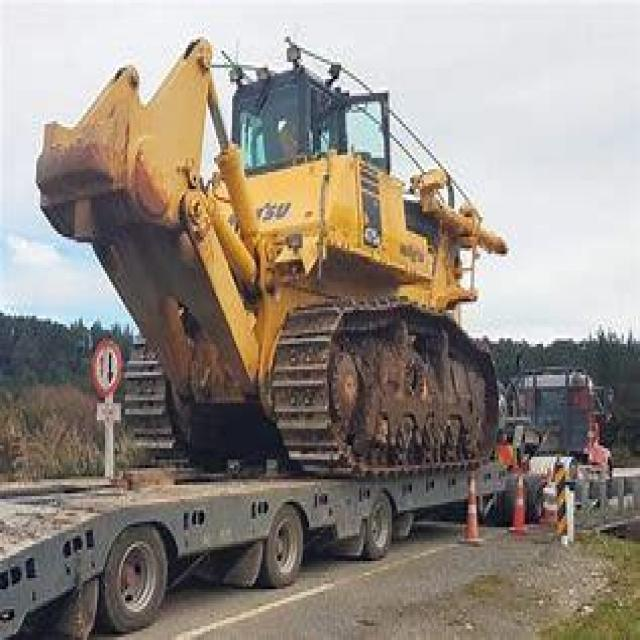Bulldozer: (28, 39, 523, 473)
